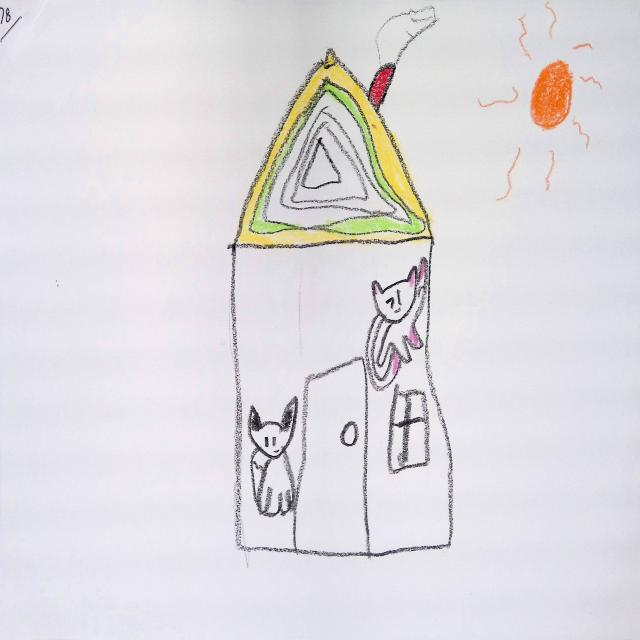chimney: (368, 63, 396, 110)
door: (296, 359, 369, 554)
house: (230, 51, 453, 558)
roof: (235, 47, 434, 243)
sun: (476, 2, 612, 209)
wall: (229, 236, 463, 565)
window: (388, 386, 431, 474)
